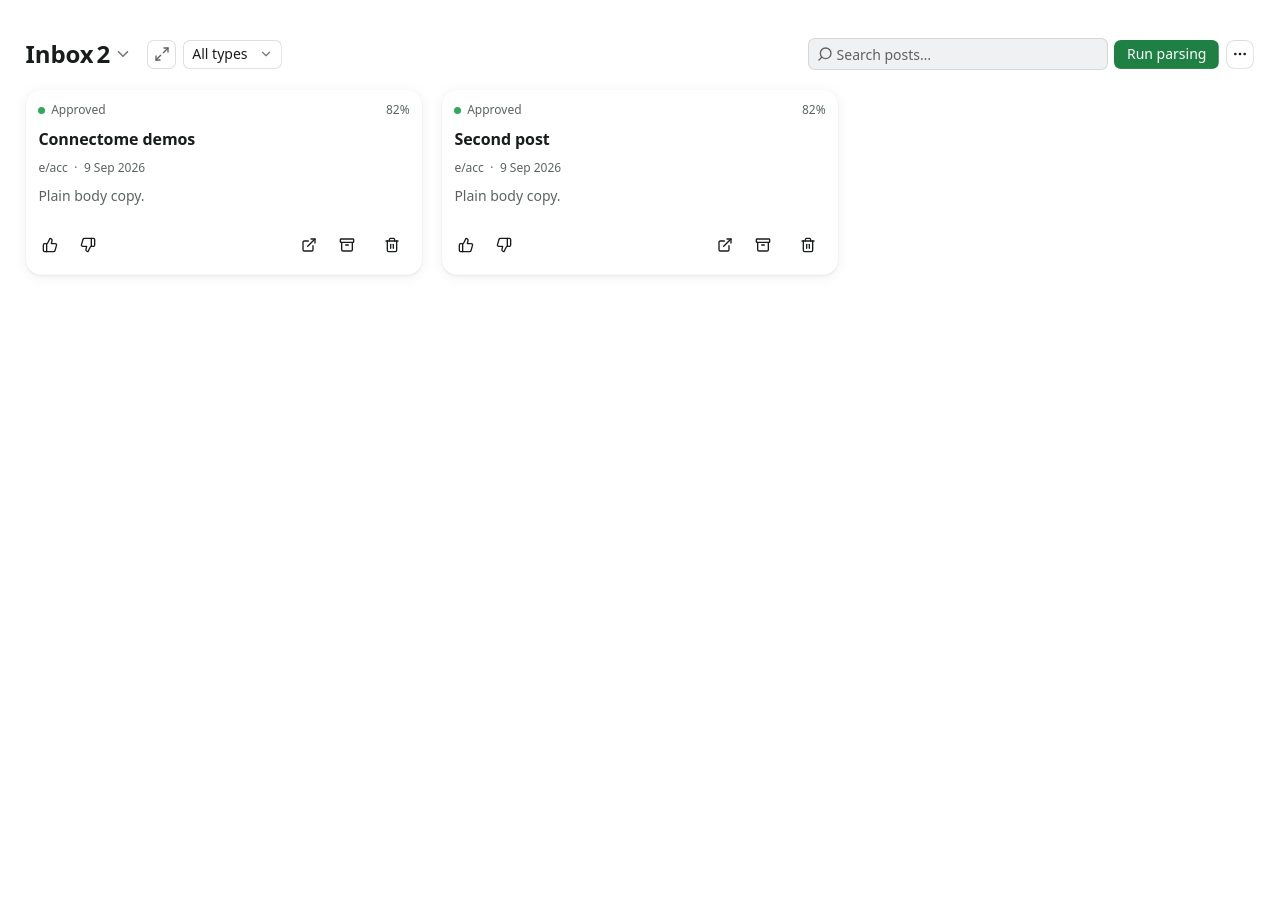
Test: prev / next › walks the visible order and disables at the ends
This screenshot has width=1280, height=900.
Step 1. Click the button named "side panel" → [162, 54], box [148,40,176,69]
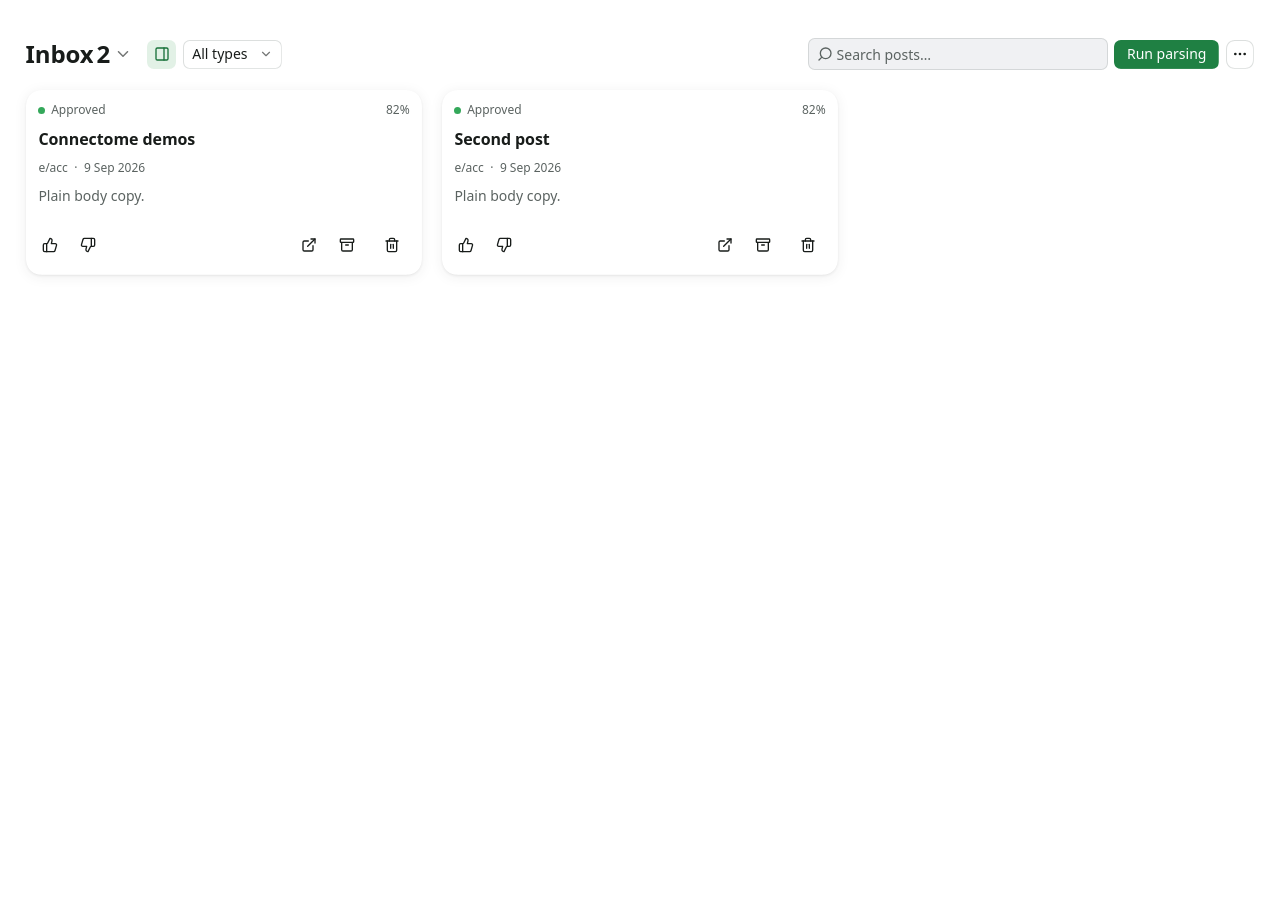
Step 2. Click the button "Connectome demos" → [78, 110], box [26,90,422,275]
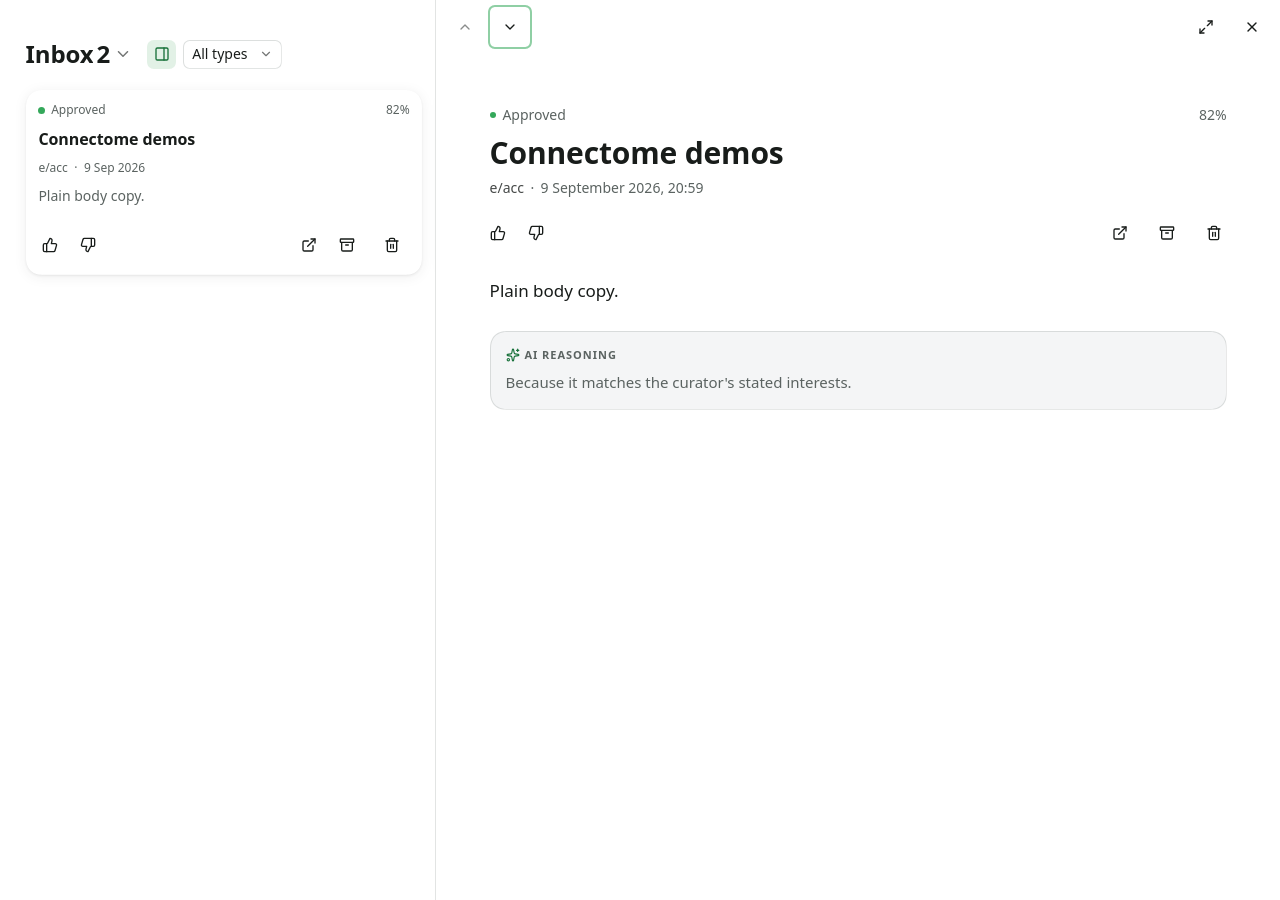
Expected: the button named "Previous item" is disabled, [443,5,487,49]
Result: the button named "Next item" is enabled
Step 3. Click the button named "Next item" → [510, 27], box [488,5,532,49]
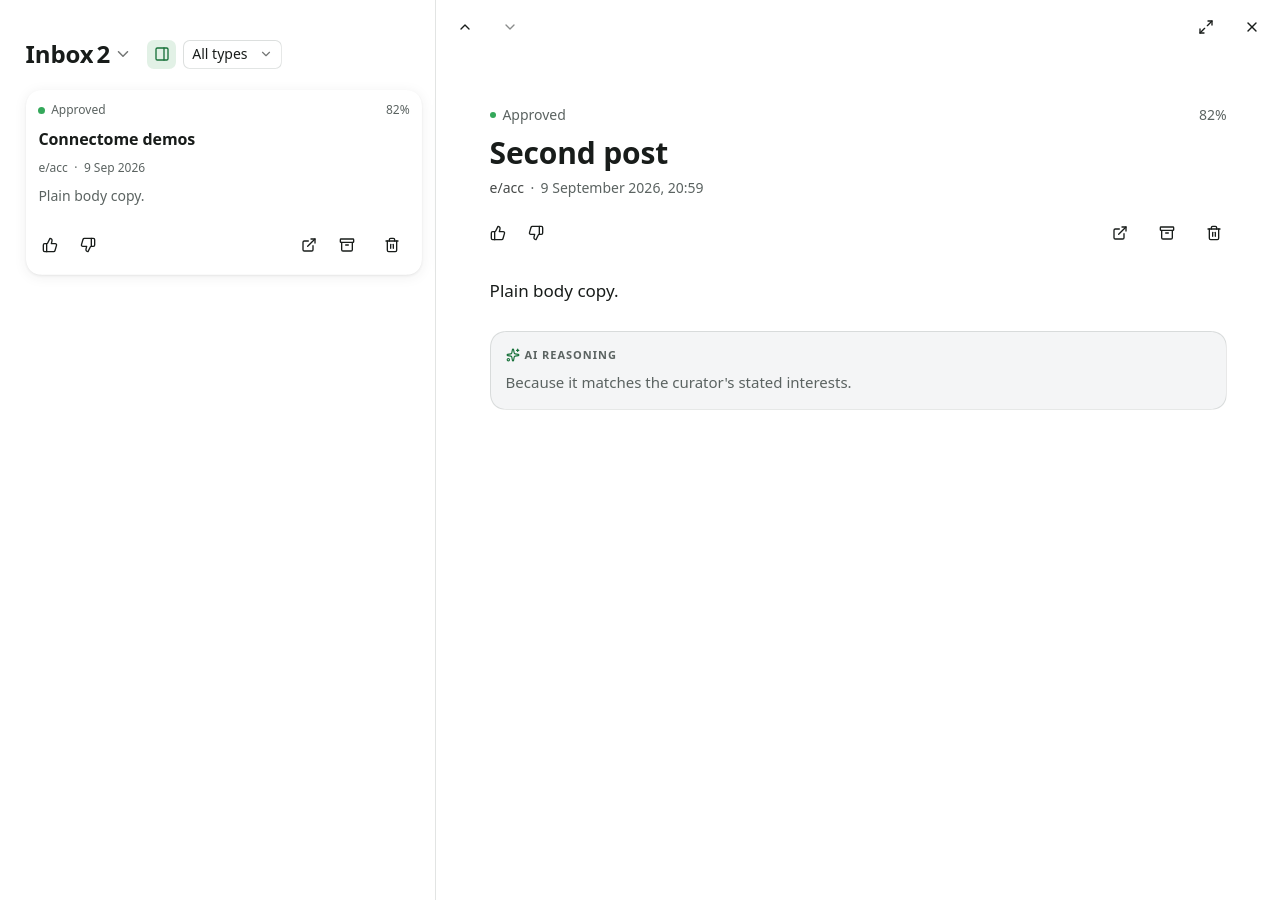
Result: the dialog "Second post" is shown
Result: the button named "Next item" is disabled at [488,5,532,49]
